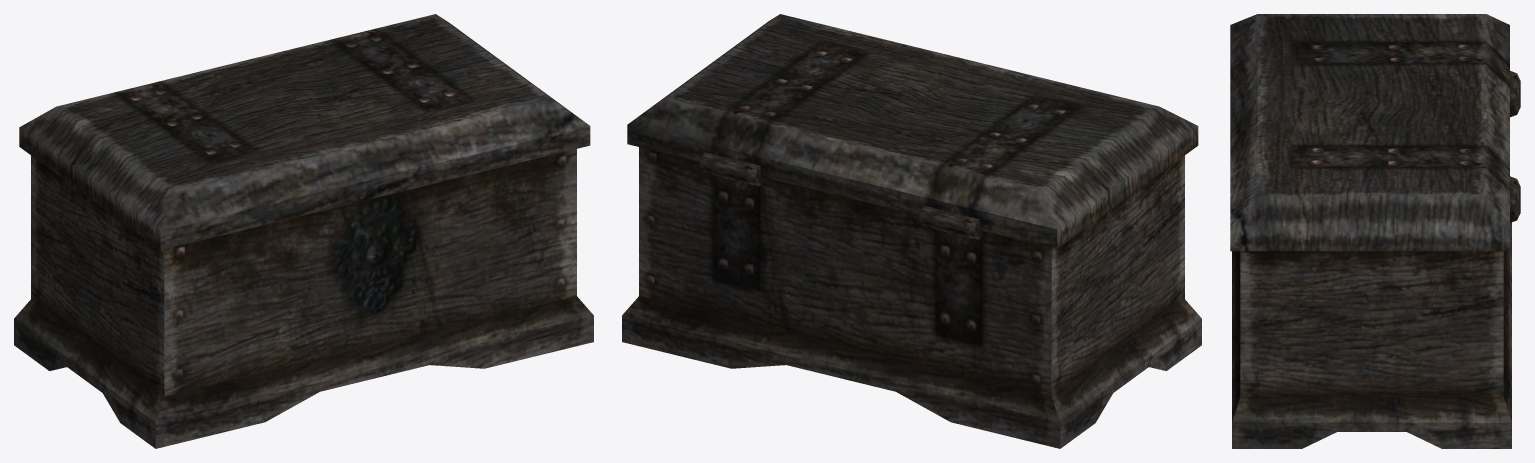
Rendered from wood_box03_broken.dae.
3 views of the same model, side by side, from view 1: azimuth 30°, elevation 25°; view 2: azimuth 150°, elevation 25°; view 3: azimuth 270°, elevation 25° (orthographic).
Parts seen in each view (by area): view 1: piece4, piece5, piece3, piece6, piece1, piece2; view 2: piece3, piece5, piece6, piece4, piece1, piece2; view 3: piece6, piece4, piece5, piece2, piece1, piece3.
Boxes of the visible parts, bbox=[...] form: piece4: bbox=[266, 149, 576, 365]; piece5: bbox=[19, 47, 428, 250]; piece3: bbox=[31, 155, 315, 396]; piece6: bbox=[230, 14, 590, 197]; piece1: bbox=[14, 299, 483, 448]; piece2: bbox=[460, 296, 593, 368]; piece3: bbox=[788, 155, 1184, 396]; piece5: bbox=[802, 60, 1198, 248]; piece6: bbox=[627, 14, 969, 215]; piece4: bbox=[639, 147, 847, 345]; piece1: bbox=[842, 299, 1201, 448]; piece2: bbox=[622, 296, 938, 391]; piece6: bbox=[1230, 88, 1509, 251]; piece4: bbox=[1240, 176, 1520, 396]; piece5: bbox=[1230, 14, 1509, 153]; piece2: bbox=[1232, 254, 1511, 448]; piece1: bbox=[1232, 222, 1511, 357]; piece3: bbox=[1510, 71, 1520, 117].
Size of the model in its own units: 1.33 by 0.6979 by 0.771.
